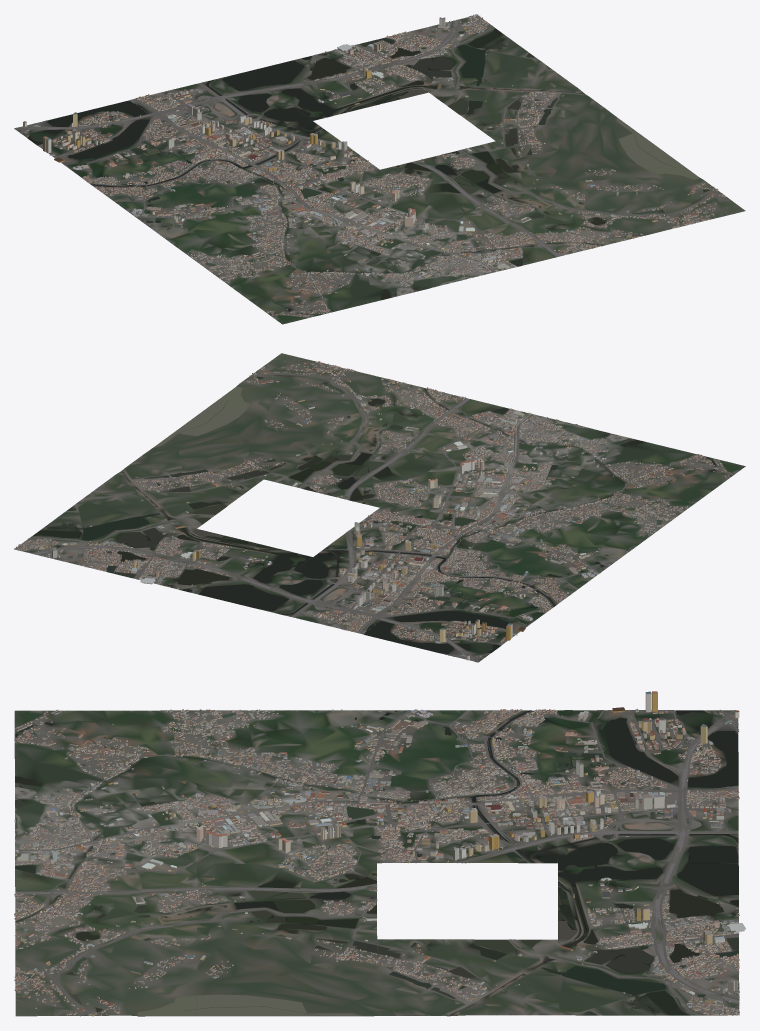
3 renders of one model, top to bottom at view 1: azimuth 30°, elevation 25°; view 2: azimuth 150°, elevation 25°; view 3: azimuth 270°, elevation 25°, orthographic. The views are drawn at different scales.
Parts seen in each view (by area): view 1: ground, buildings, water, roads; view 2: ground, buildings, water, roads; view 3: ground, buildings, water, roads.
Boxes of the visible parts, x1,y1,x2,y2 form: ground: (14, 15, 745, 324); buildings: (23, 14, 726, 317); water: (27, 28, 709, 315); roads: (14, 19, 722, 312); ground: (16, 353, 745, 662); buildings: (14, 360, 732, 660); water: (32, 375, 716, 656); roads: (22, 369, 686, 662); ground: (14, 710, 739, 1016); buildings: (14, 691, 745, 1016); water: (15, 710, 738, 1016); roads: (15, 710, 739, 1016).
Size of the model in its own units: 5650 by 162 by 5671.
